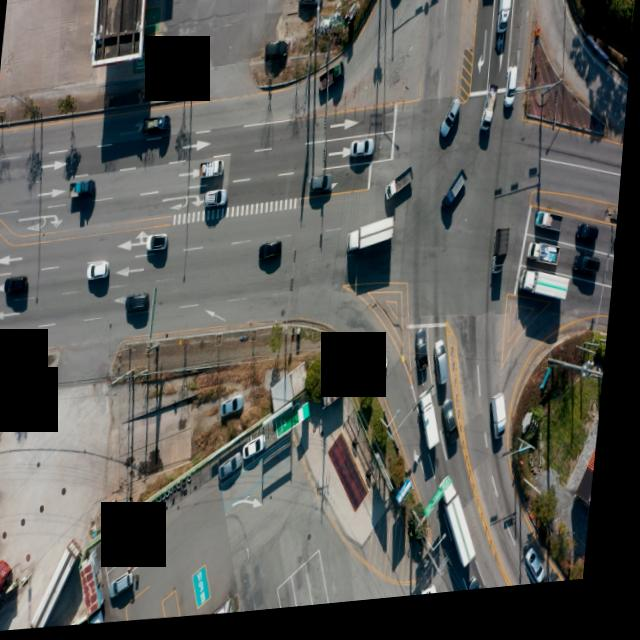car: (416, 335, 438, 382), (532, 556, 557, 596), (436, 348, 456, 395), (438, 105, 460, 146), (447, 407, 467, 448), (372, 342, 393, 381), (501, 75, 517, 118), (578, 264, 606, 288), (118, 573, 142, 601), (226, 458, 249, 485), (248, 439, 272, 464), (577, 233, 602, 255), (128, 295, 152, 316), (6, 274, 31, 294), (88, 262, 112, 282), (352, 144, 376, 164), (265, 44, 289, 64), (312, 179, 335, 199), (261, 247, 284, 266), (225, 401, 247, 420), (149, 235, 171, 254), (205, 193, 228, 211), (298, 0, 318, 12), (476, 586, 492, 601), (427, 594, 448, 605), (389, 0, 408, 2)
medium_truck: (438, 480, 489, 580), (37, 541, 82, 629), (519, 275, 575, 319), (422, 398, 453, 463), (351, 224, 400, 262)
small_truck: (529, 249, 565, 281), (494, 400, 516, 448), (388, 171, 417, 207), (443, 179, 469, 218), (492, 235, 512, 284), (325, 379, 350, 416), (537, 220, 567, 247), (481, 94, 498, 139), (321, 63, 345, 93), (494, 0, 510, 42), (71, 178, 99, 198), (144, 117, 171, 136), (200, 163, 225, 182)
